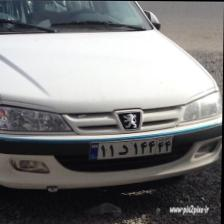plate: (88, 134, 173, 161)
